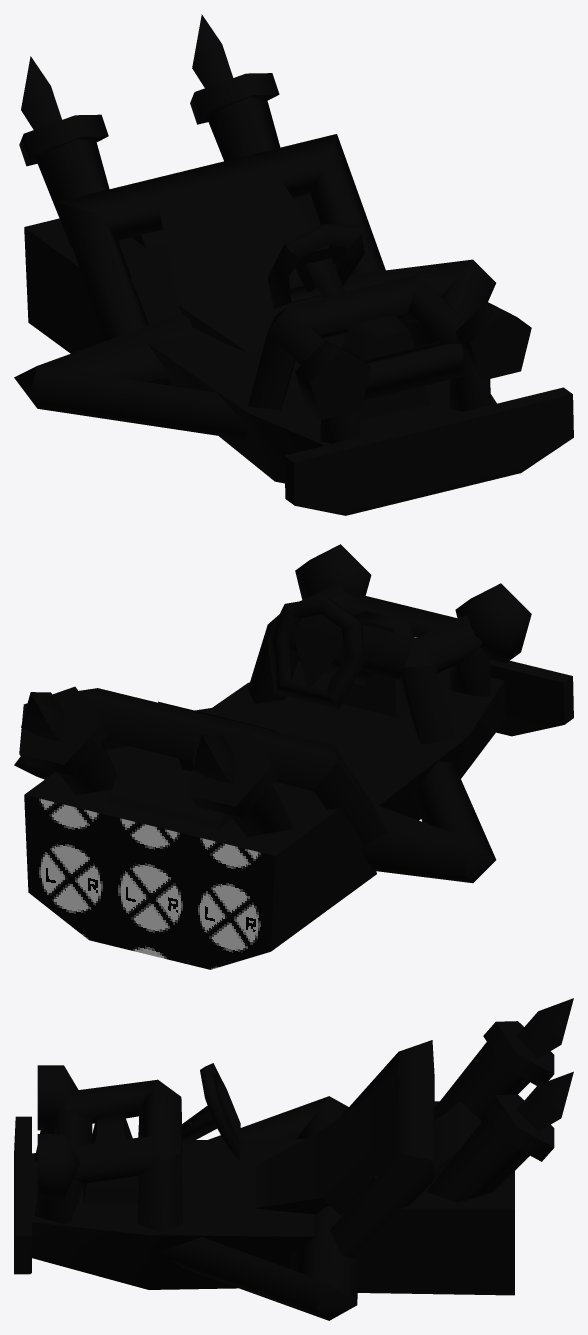
The model's file is body_rally_lod.dae.
3 views of the same model, one above another, from view 1: azimuth 30°, elevation 25°; view 2: azimuth 150°, elevation 25°; view 3: azimuth 270°, elevation 25° (orthographic). The views are drawn at different scales.
Parts seen in each view (by area): view 1: _0_0_node.001; view 2: _0_0_node.001; view 3: _0_0_node.001.
Part boxes in pixels (bbox=[...]): _0_0_node.001: bbox=[14, 14, 573, 515]; _0_0_node.001: bbox=[14, 544, 573, 969]; _0_0_node.001: bbox=[14, 998, 573, 1320].
Bounding box in the file's own units: 16.67 × 19.67 × 9.23.
2 materials, 2 textured.
